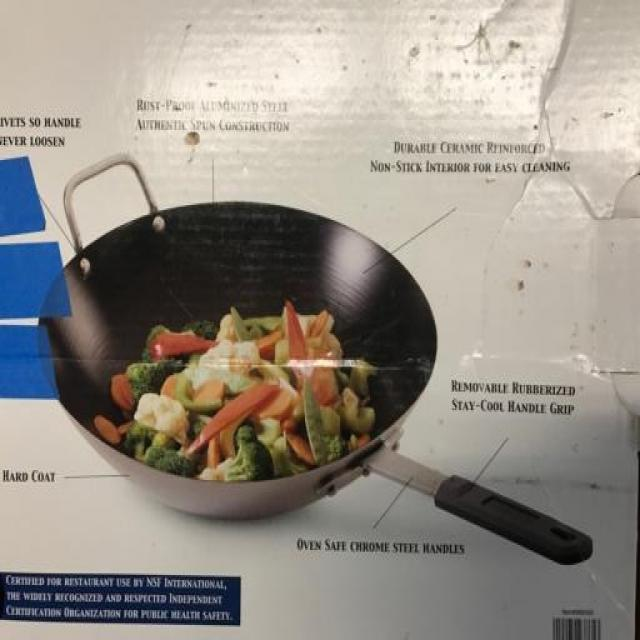cardboard: (0, 0, 638, 637)
cups: (40, 157, 440, 521)
